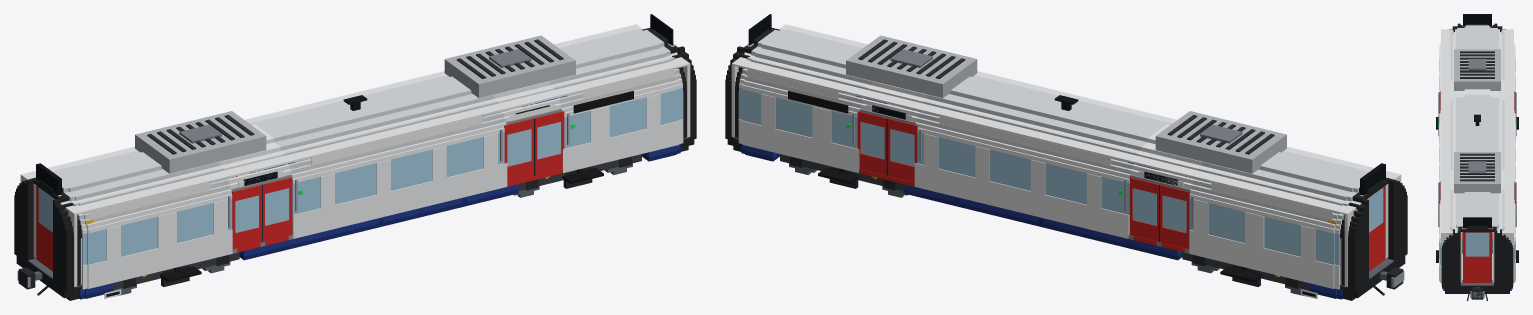
The model's file is tube2009_car.obj.
3 views of the same model, side by side, from view 1: azimuth 30°, elevation 25°; view 2: azimuth 150°, elevation 25°; view 3: azimuth 270°, elevation 25° (orthographic). The views are drawn at different scales.
Parts seen in each view (by area): view 1: SHELL, SHELL_roof, SHELL_ceiling, SHELL_diaphragm, SHELL_ad, SHELL_end, EXTERNAL_DOOR_4_CG_DR1_TOGGLE_TL_-0.74_X, EXTERNAL_DOOR_10_CG_DR2_TOGGLE_TL_-0.74_X, EXTERNAL_DOOR_5_CG_DR1_TOGGLE_TL_0.74_X, EXTERNAL_DOOR_11_CG_DR2_TOGGLE_TL_0.74_X, BOGEY_REAR, BOGEY_FRONT (+2 smaller); view 2: SHELL, SHELL_roof, SHELL_ceiling, SHELL_diaphragm, SHELL_ad, SHELL_end, EXTERNAL_DOOR_7_CG_DL1_TOGGLE_TL_-0.74_X, EXTERNAL_DOOR_13_CG_DL2_TOGGLE_TL_-0.74_X, EXTERNAL_DOOR_8_CG_DL1_TOGGLE_TL_0.74_X, EXTERNAL_DOOR_14_CG_DL2_TOGGLE_TL_0.74_X, BOGEY_REAR, BOGEY_FRONT (+3 smaller); view 3: SHELL, SHELL_ceiling, SHELL_roof, SHELL_diaphragm, CONNECTING_DOOR_2_CG_CF_TOGGLE_TL_0.98_Z, SHELL_end, SHELL_handle, FRAME, BOGEY_FRONT, SHELL_gangway, SHELL_sign, BOGEY_REAR.
Part boxes in pixels (box(x1,y1,x2,y2)): SHELL: box(31, 28, 691, 300); SHELL_roof: box(135, 35, 575, 173); SHELL_ceiling: box(23, 25, 687, 214); SHELL_diaphragm: box(14, 46, 696, 298); SHELL_ad: box(89, 69, 674, 219); SHELL_end: box(20, 14, 690, 286); EXTERNAL_DOOR_4_CG_DR1_TOGGLE_TL_-0.74_X: box(232, 184, 262, 249); EXTERNAL_DOOR_10_CG_DR2_TOGGLE_TL_-0.74_X: box(504, 118, 535, 182); EXTERNAL_DOOR_5_CG_DR1_TOGGLE_TL_0.74_X: box(262, 177, 292, 241); EXTERNAL_DOOR_11_CG_DR2_TOGGLE_TL_0.74_X: box(534, 111, 564, 175); BOGEY_REAR: box(113, 252, 239, 289); BOGEY_FRONT: box(518, 154, 641, 190); SHELL: box(730, 28, 1390, 300); SHELL_roof: box(846, 35, 1286, 173); SHELL_ceiling: box(734, 25, 1398, 214); SHELL_diaphragm: box(725, 46, 1407, 298); SHELL_ad: box(747, 69, 1332, 219); SHELL_end: box(731, 14, 1401, 286); EXTERNAL_DOOR_7_CG_DL1_TOGGLE_TL_-0.74_X: box(1159, 184, 1189, 249); EXTERNAL_DOOR_13_CG_DL2_TOGGLE_TL_-0.74_X: box(886, 118, 917, 182); EXTERNAL_DOOR_8_CG_DL1_TOGGLE_TL_0.74_X: box(1129, 177, 1159, 241); EXTERNAL_DOOR_14_CG_DL2_TOGGLE_TL_0.74_X: box(857, 111, 887, 175); BOGEY_REAR: box(1182, 252, 1308, 289); BOGEY_FRONT: box(780, 154, 903, 190); SHELL: box(1439, 24, 1515, 293); SHELL_ceiling: box(1441, 30, 1513, 233); SHELL_roof: box(1454, 49, 1500, 193); SHELL_diaphragm: box(1442, 23, 1512, 293); CONNECTING_DOOR_2_CG_CF_TOGGLE_TL_0.98_Z: box(1463, 228, 1491, 282); SHELL_end: box(1441, 14, 1513, 282); SHELL_handle: box(1438, 92, 1516, 225); FRAME: box(1467, 287, 1487, 300); BOGEY_FRONT: box(1436, 238, 1518, 262); SHELL_gangway: box(1461, 281, 1493, 285); SHELL_sign: box(1438, 202, 1516, 226); BOGEY_REAR: box(1436, 117, 1518, 129).
Bounding box in the file's own units: 17.84 × 3.24 × 2.84.
Materials: 1 (1 with a texture image).
